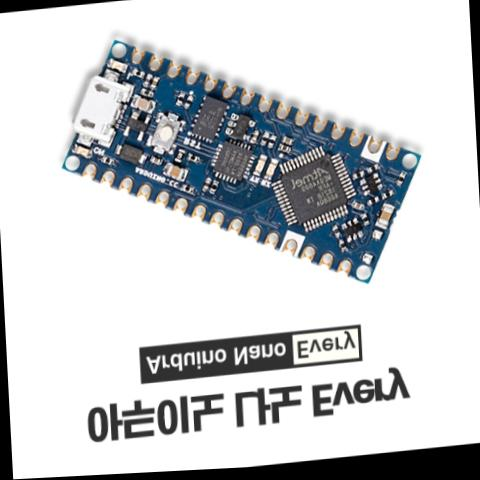Arduino-Nano: (49, 9, 432, 320)
